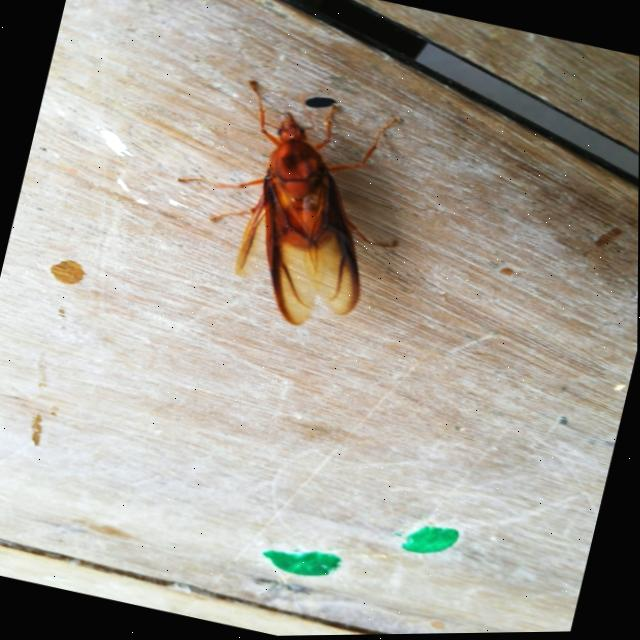Alive-Male-Alate: (148, 65, 430, 347)
